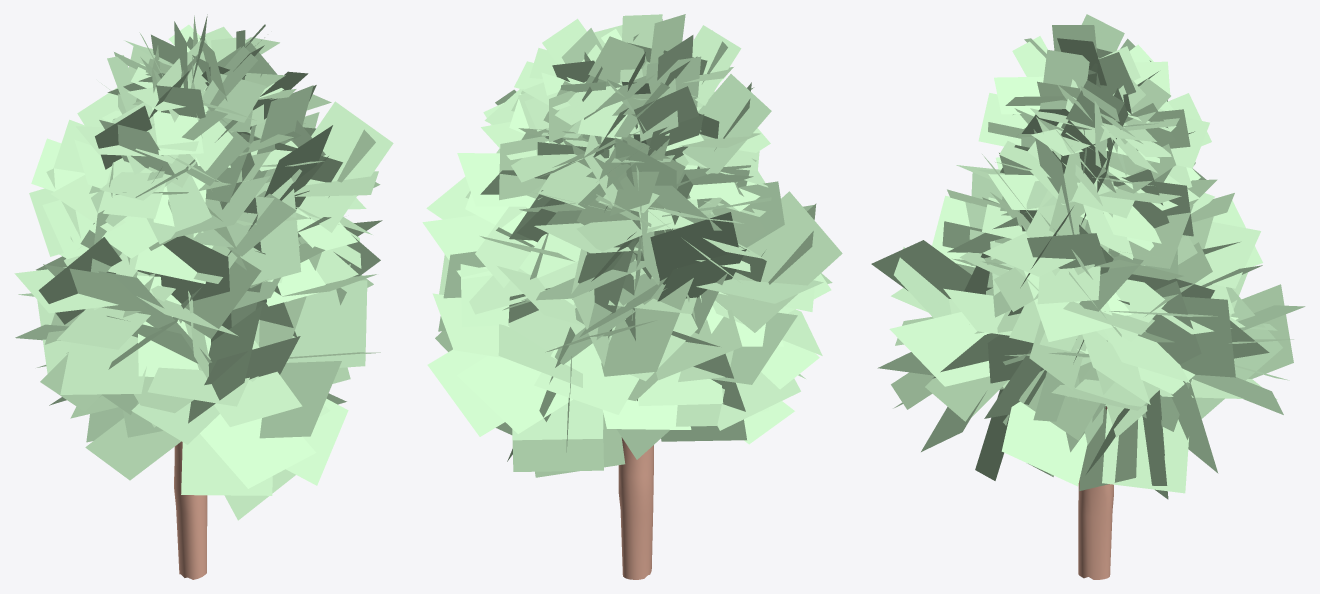
File: tree_05.fbx
3 renders of one model, left to right at view 1: azimuth 30°, elevation 25°; view 2: azimuth 150°, elevation 25°; view 3: azimuth 270°, elevation 25°, orthographic. The views are drawn at different scales.
Parts seen in each view (by area): view 1: Tree_05; view 2: Tree_05; view 3: Tree_05.
Part boxes in pixels (x1,y1,x2,y2): Tree_05: [14, 14, 393, 579]; Tree_05: [422, 14, 842, 579]; Tree_05: [871, 14, 1305, 579].
Size of the model in its own units: 711 by 1023 by 744.
